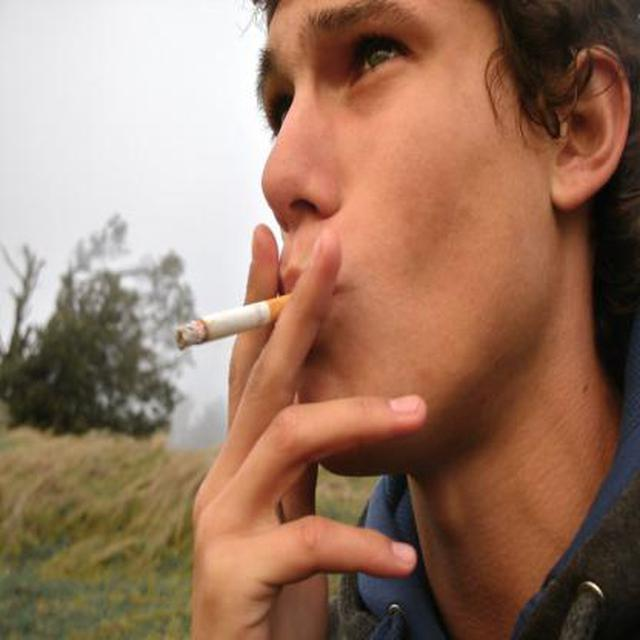smoking: (164, 290, 331, 350)
